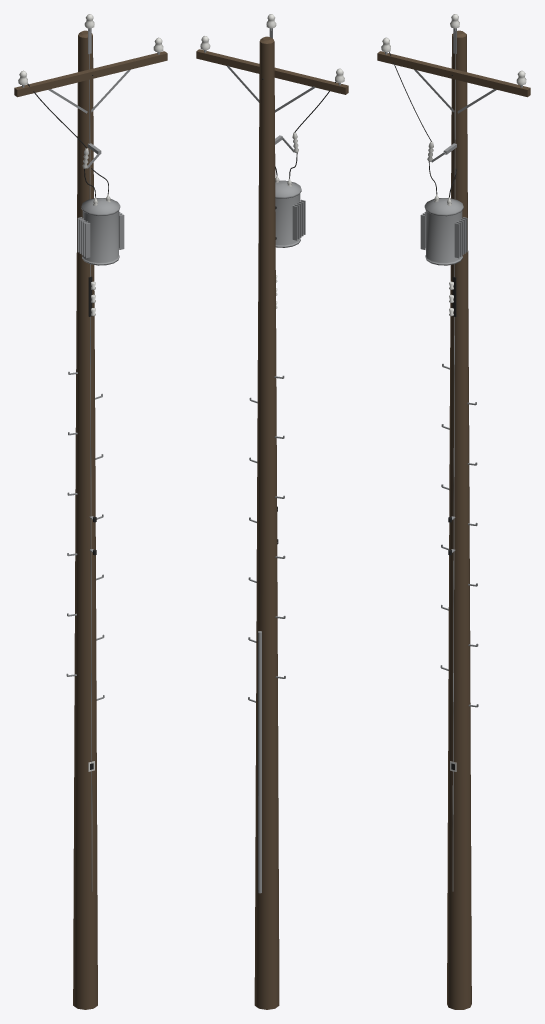
File: pole_distribution.glb
3 views of the same model, side by side, from view 1: azimuth 30°, elevation 25°; view 2: azimuth 150°, elevation 25°; view 3: azimuth 330°, elevation 25° (orthographic).
Visible parts, largest first — view 1: Fixed_Wood, Fixed_Galv, Fixed_White, Fixed_Black; view 2: Fixed_Wood, Fixed_Galv, Fixed_White; view 3: Fixed_Wood, Fixed_Galv, Fixed_White, Fixed_Black.
Part boxes in pixels (x1,y1,x2,y2): Fixed_Wood: (14, 30, 167, 1009); Fixed_Galv: (22, 28, 159, 891); Fixed_White: (18, 14, 163, 771); Fixed_Black: (27, 75, 108, 769); Fixed_Wood: (196, 36, 348, 1009); Fixed_Galv: (204, 28, 340, 893); Fixed_White: (200, 14, 344, 308); Fixed_Wood: (377, 30, 530, 1009); Fixed_Galv: (385, 28, 522, 891); Fixed_White: (381, 14, 526, 771); Fixed_Black: (389, 51, 456, 770).
Bounding box in the file's own units: 2.4 × 15.15 × 0.9086.
